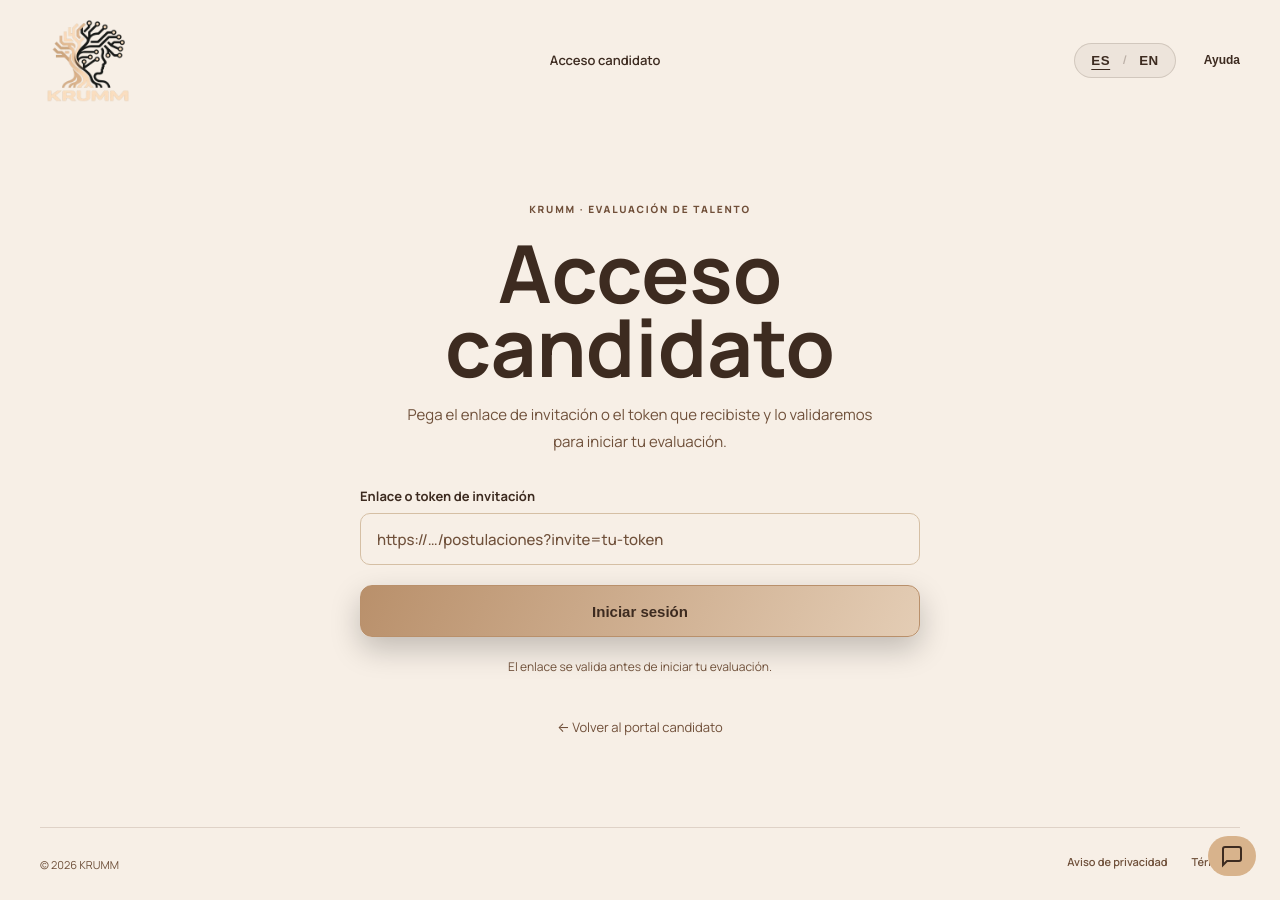
Test case: CandidateAccessPage (integración del guard de invitación) › i18n: click EN traduce página de acceso (intro/label/placeholder/error/note)
Step 1. Click the button "EN" → (1149, 60), box [1129, 46, 1169, 74]
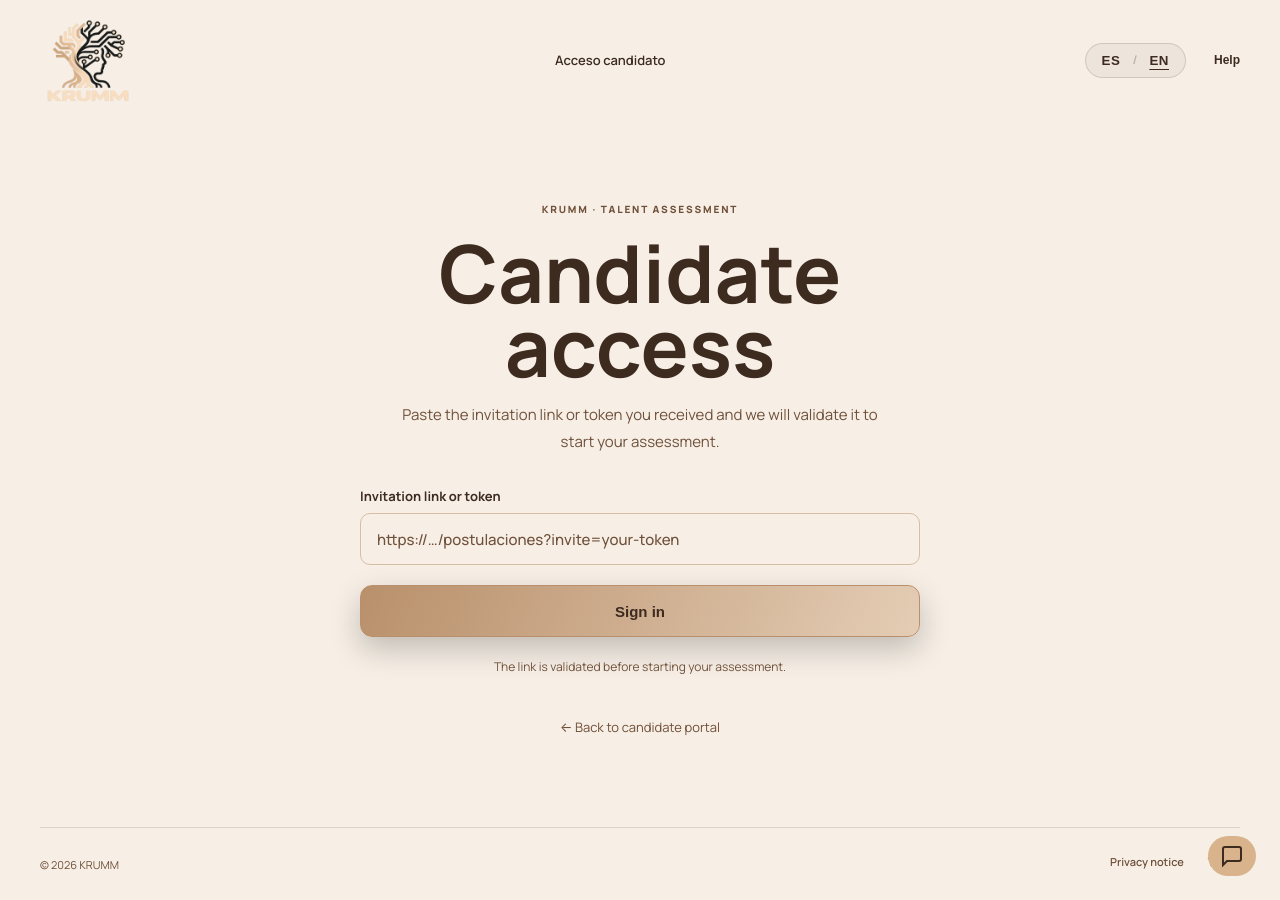
Expected: the heading "Candidate access" is shown, [439, 218, 841, 401]
Expected: the text "Paste the invitation link or token you received and we will validate it to start your assessment." is shown, [402, 404, 878, 452]
Step 2. Type "nope" into the field labelled "Invitation link or token" → (640, 539), box [360, 513, 920, 565]
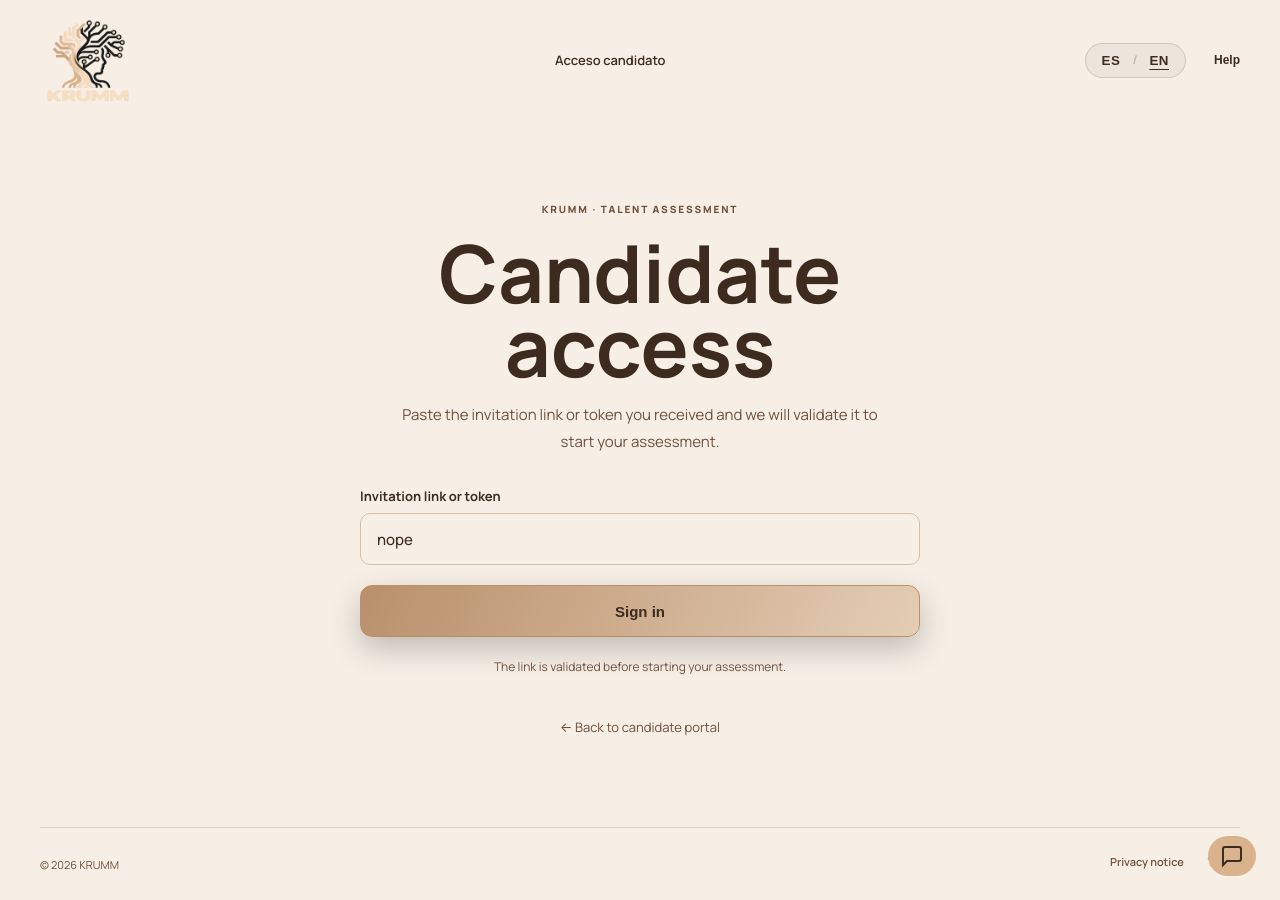
Step 3. Submit the form, box [360, 487, 920, 637]
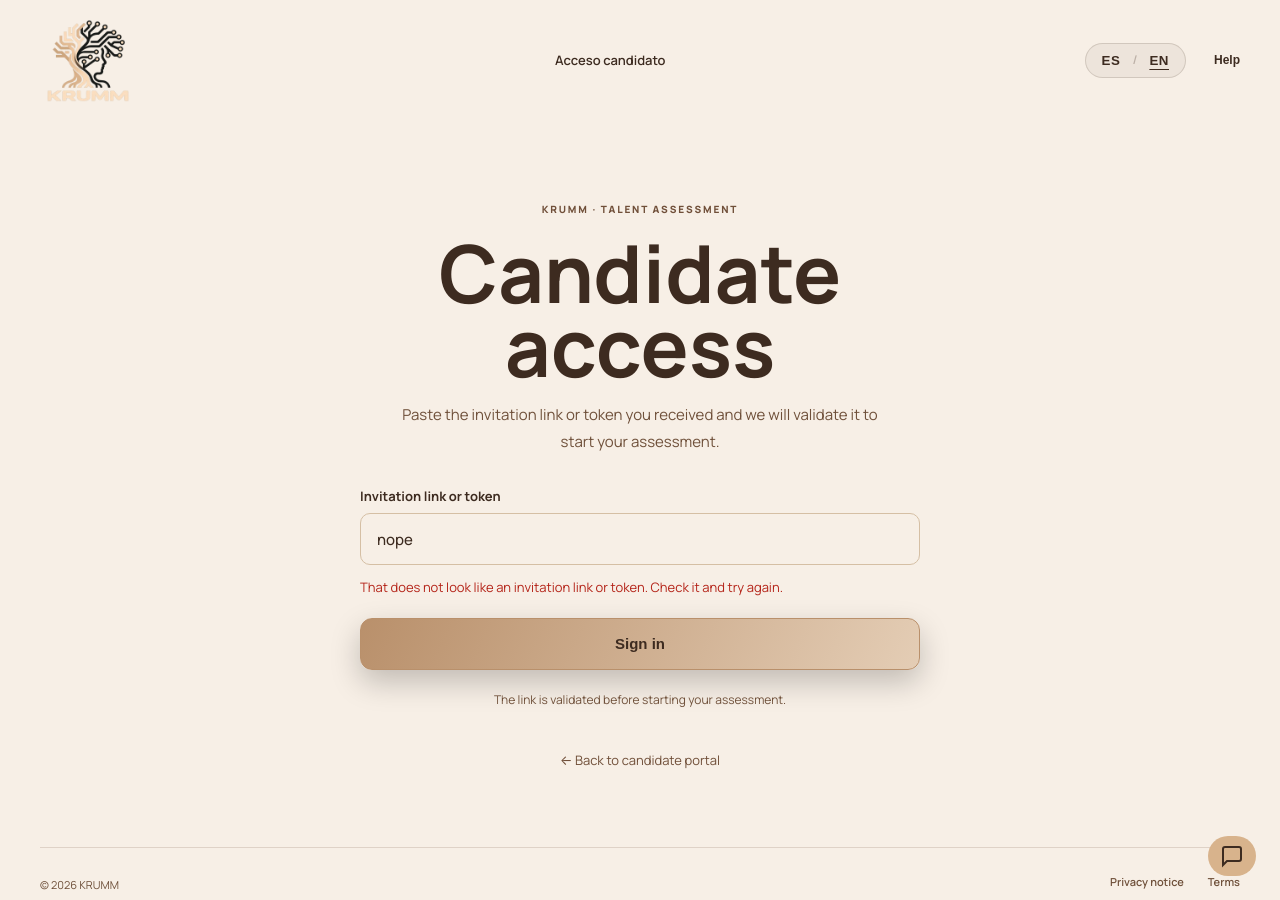
Expected: the message reads "That does not look like an invitation link or token. Check it and try again.", [360, 578, 783, 596]
